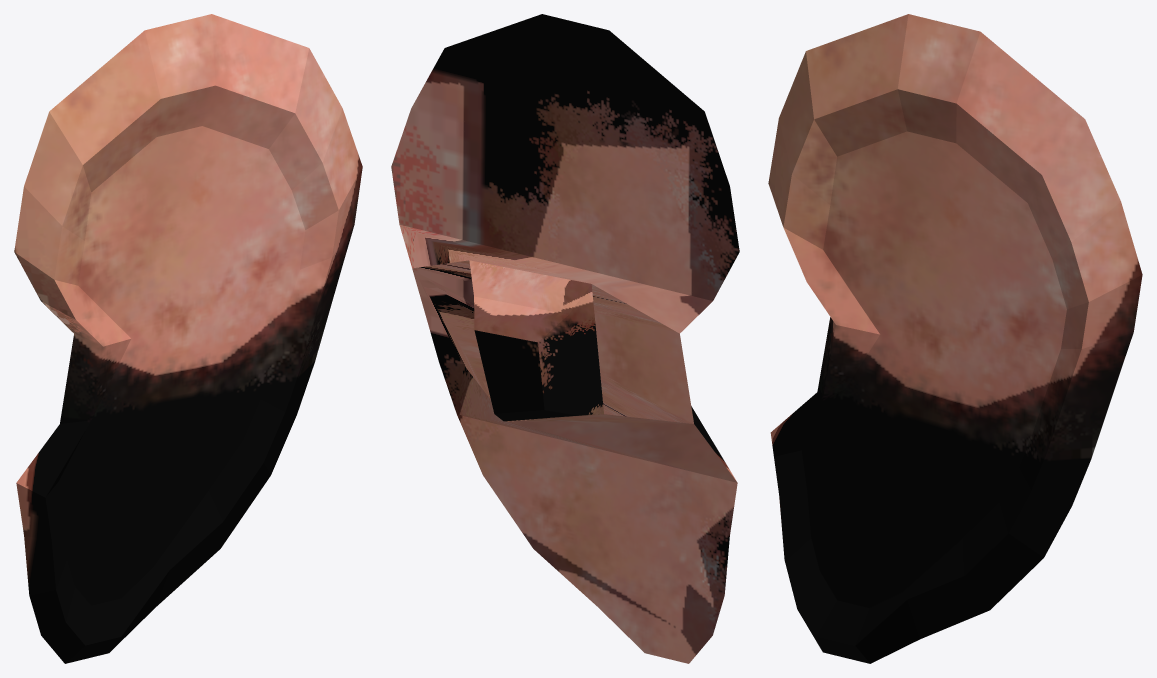
File: ear.obj
3 renders of one model, left to right at view 1: azimuth 30°, elevation 25°; view 2: azimuth 150°, elevation 25°; view 3: azimuth 330°, elevation 25°, orthographic. The views are drawn at different scales.
Visible parts, largest first — view 1: Plane; view 2: Plane; view 3: Plane.
Part boxes in pixels (box(x1,y1,x2,y2)): Plane: box(14, 14, 362, 663); Plane: box(391, 14, 739, 663); Plane: box(768, 14, 1142, 663).
Bounding box in the file's own units: 2.68 × 4.51 × 0.605.
